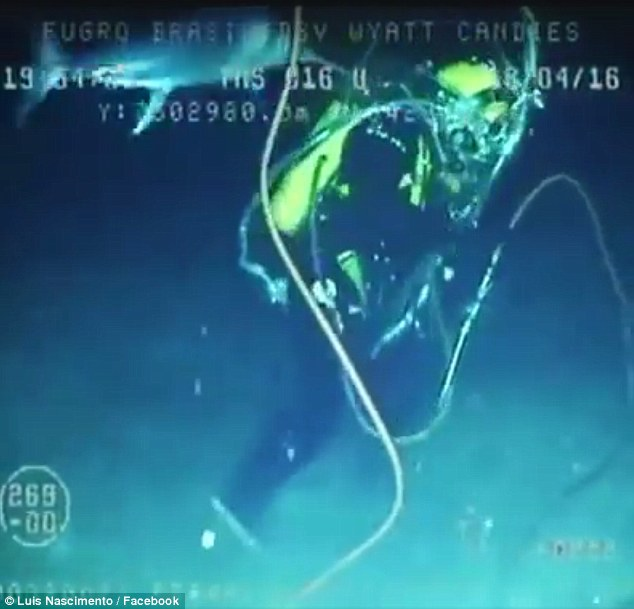swordfish: (2, 12, 366, 133)
